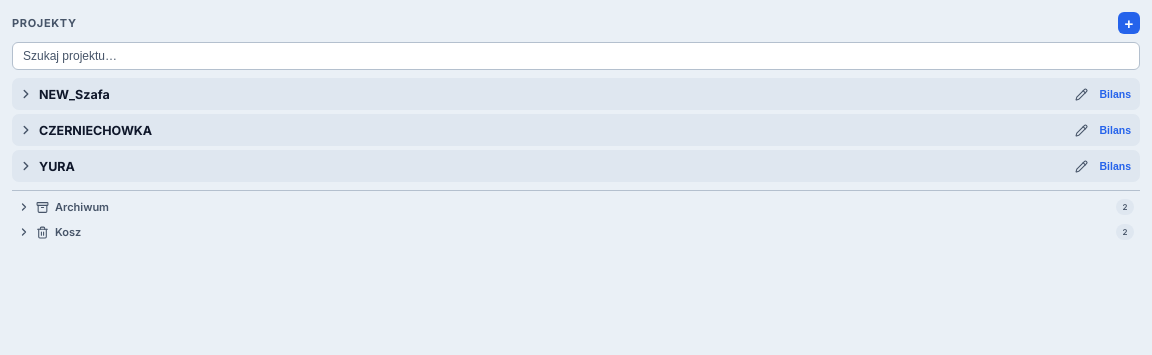
it: ProjectListPanel Archiwum and Kosz › shows the folders read-only to roles that cannot manage the lifecycle
Click the button "Kosz 2".
click(24, 232)  # box [12,220,1140,244]
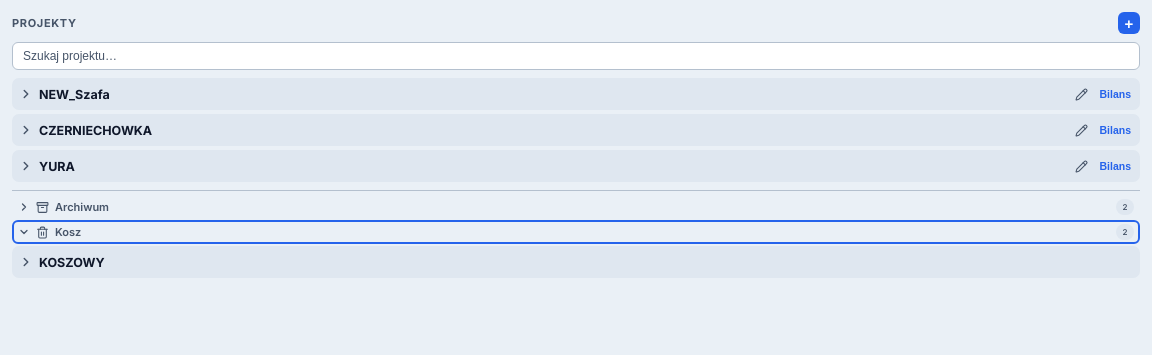
Click the button "KOSZOWY".
click(72, 262)  # box [13,247,1135,277]
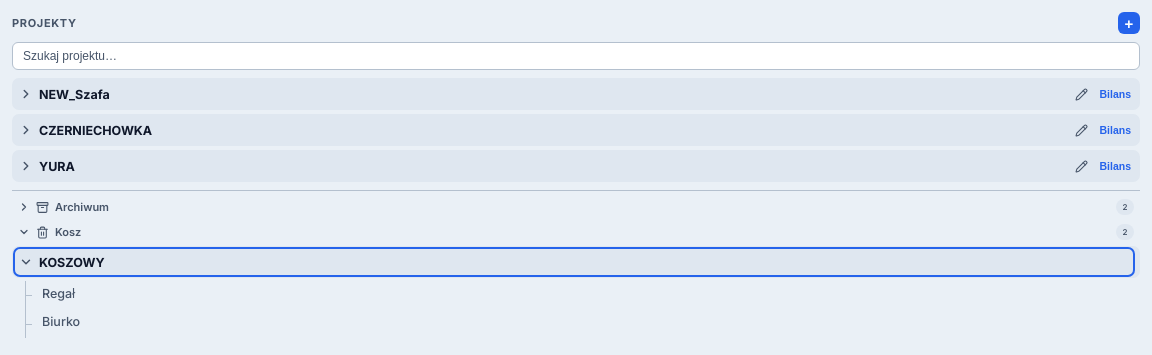
Now the text "Regał" is shown, box [42,286,75,301]
